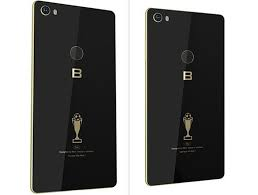bphone: (26, 1, 119, 194), (141, 6, 225, 188)
